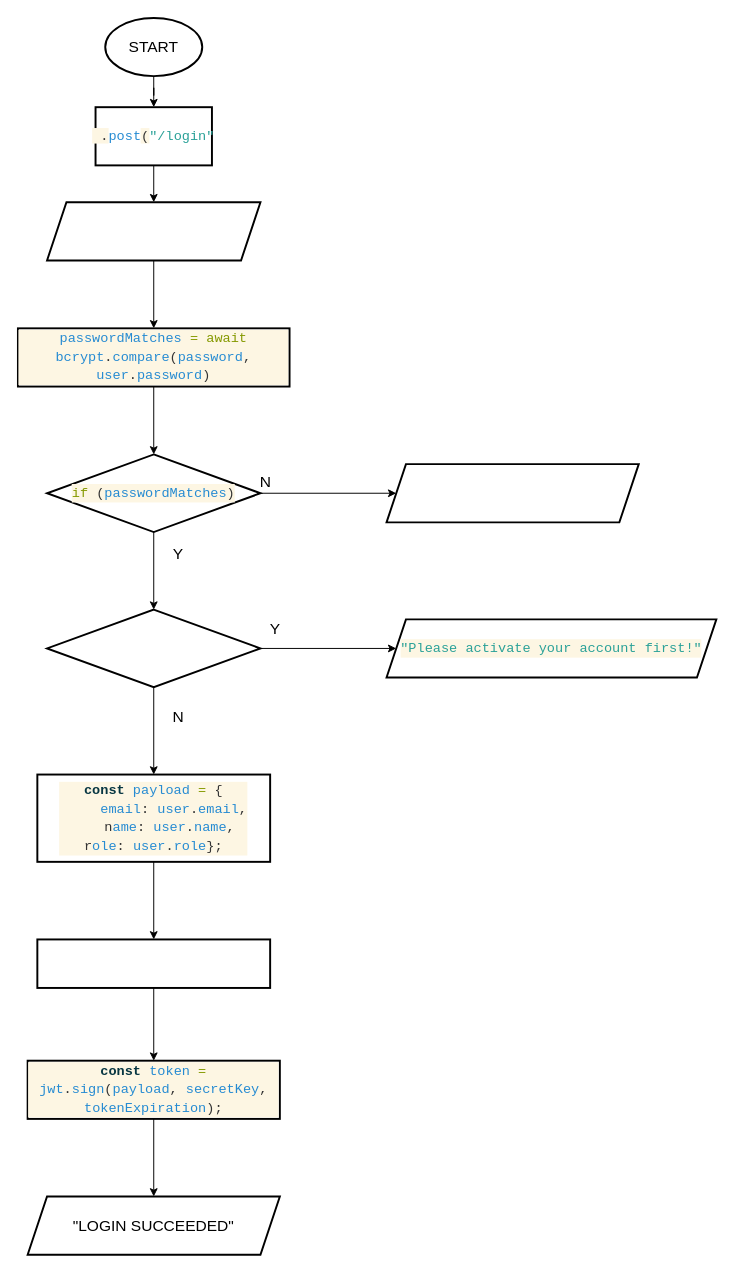
Image size: 733x1272. Some labels were removed from this diagram. The centre of each missing label's shape, as x and y in pixels:
const tokenExpiration = { expiresIn : 60 * 60 };: point 153,963
ERROR("YOU ENTERED THE WRONG PASSWORD"): point 512,493
INPUT email, password: point 153,231
user.status !== active: point 153,648
